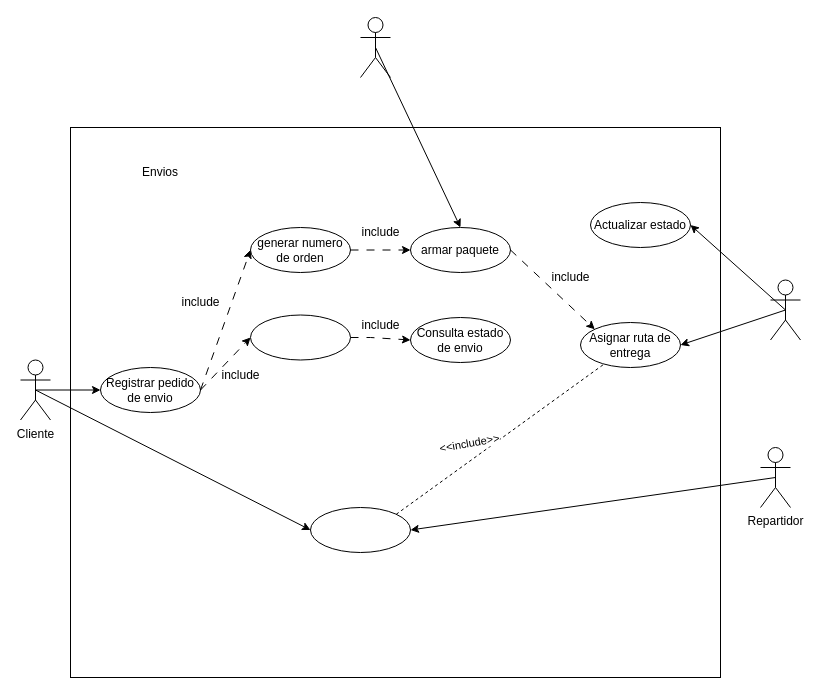
Some shapes in this 840 by 695 pixel diagram are drawn without their labels. Here are the shapes that lost their labels. From the top down, the box of each, then its label:
(360, 16, 390, 78): proveedor
(770, 279, 800, 340): Administrador
(250, 314, 350, 360): Generar etiqueta de envio
(310, 506, 410, 552): Confirmar entrega
